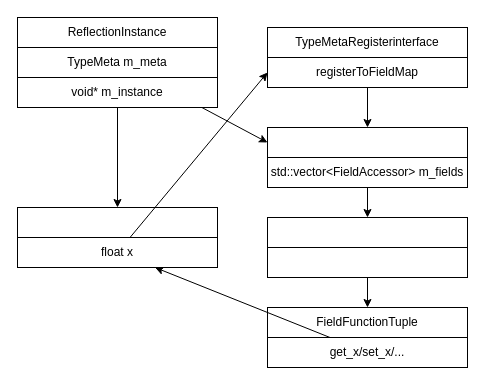
This 485x385 diagram has some shape labels left out. Here are the shapes that lost their labels. From the top down, the centre of each, then its label:
At [367,142]: "TypeMeta".
At [117,222]: "Vector2".
At [367,232]: "FieldAccessor".
At [367,262]: "FieldFunctionTuple* m_functions".
